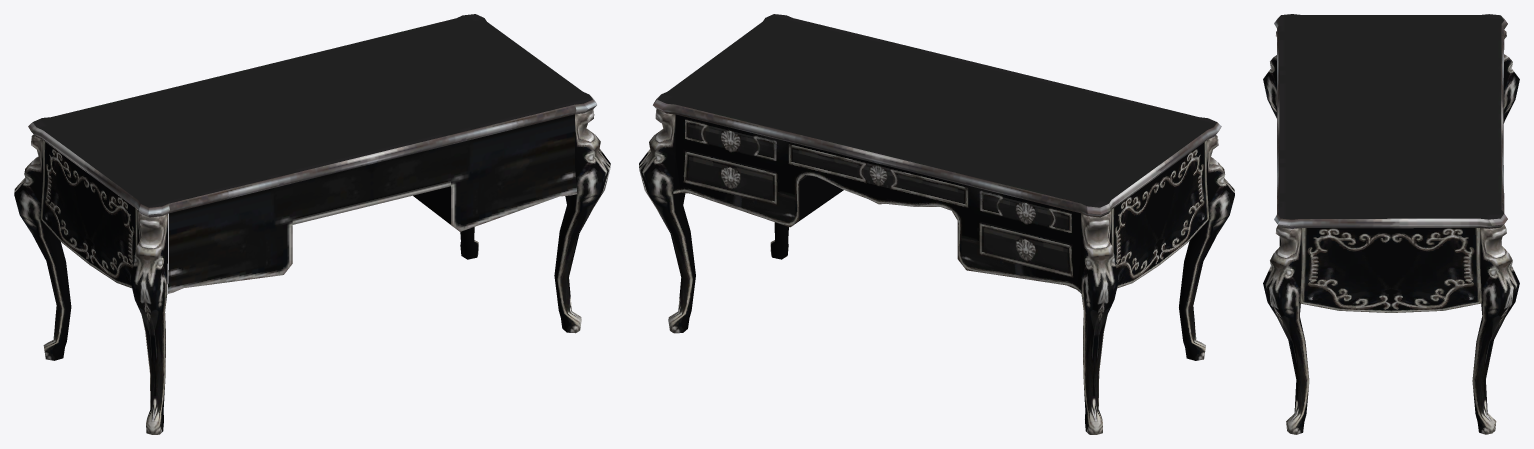
File: furni_0201213.FBX
The picture shows the model from 3 angles, left to right: view 1: azimuth 30°, elevation 25°; view 2: azimuth 150°, elevation 25°; view 3: azimuth 270°, elevation 25°; orthographic projection. The views are drawn at different scales.
Visible parts, largest first — view 1: furni_0201213; view 2: furni_0201213; view 3: furni_0201213.
Boxes of the visible parts, <box> form: furni_0201213: <box>14,14,610,434</box>; furni_0201213: <box>639,14,1234,434</box>; furni_0201213: <box>1263,14,1519,434</box>.
Size of the model in its own units: 173 by 79.92 by 85.08.
Materials: 1 (1 with a texture image).
